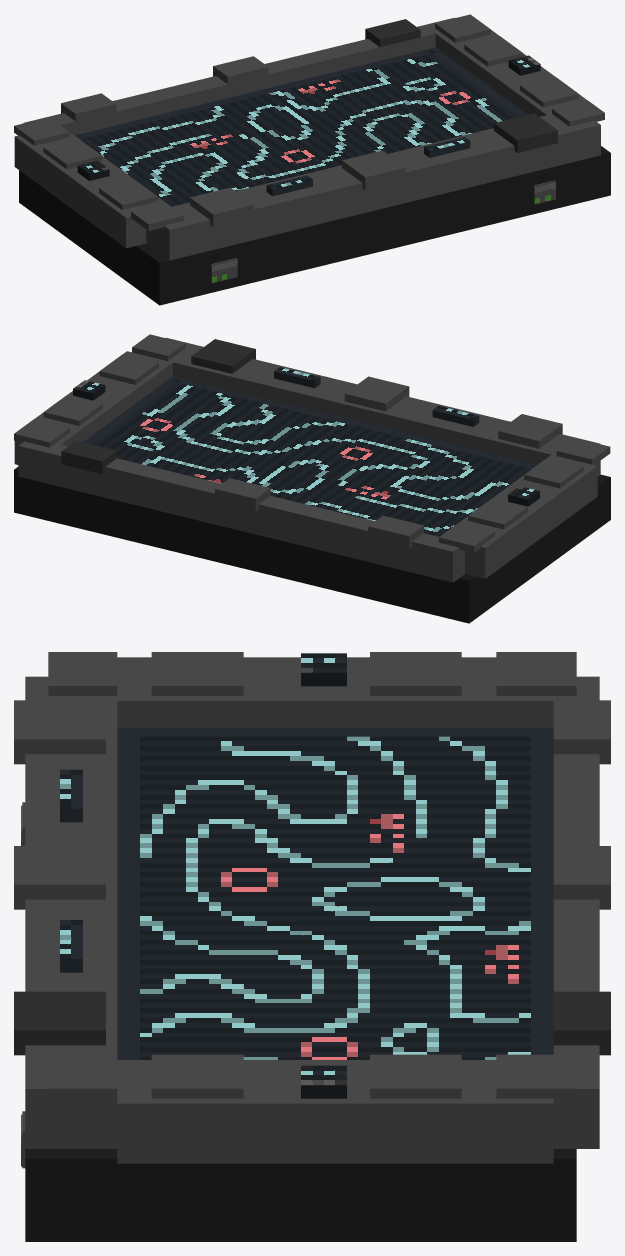
The model's file is CMU3DTacticalMapLargeGovforCloud.glb.
The picture shows the model from 3 angles, top to bottom: view 1: azimuth 30°, elevation 25°; view 2: azimuth 150°, elevation 25°; view 3: azimuth 270°, elevation 25°; orthographic projection. The views are drawn at different scales.
Visible parts, largest first — view 1: original fixed map schematic original detail, low continuous base, front main rim, rear main rim, left protective rim, right protective rim, front fixing strap 14, front fixing strap 44, front fixing strap 74, inset screen solid backing, raised rear fixing strap 44, left armored bezel block 2 (+10 smaller); view 2: original fixed map schematic original detail, low continuous base, rear main rim, front main rim, left protective rim, right protective rim, inset screen solid backing, front fixing strap 44, front fixing strap 74, front fixing strap 14, raised rear fixing strap 14, raised rear fixing strap 74 (+9 smaller); view 3: original fixed map schematic original detail, low continuous base, right protective rim, front main rim, left protective rim, rear main rim, inset screen solid backing, front fixing strap 14, front fixing strap 74, front fixing strap 44, right armored bezel block 2, right armored bezel block 1 (+13 smaller).
Boxes of the visible parts, bbox=[...] form: original fixed map schematic original detail: bbox=[77, 50, 522, 206]; low continuous base: bbox=[19, 146, 610, 305]; front main rim: bbox=[146, 114, 600, 260]; rear main rim: bbox=[23, 17, 454, 135]; left protective rim: bbox=[14, 132, 165, 248]; right protective rim: bbox=[435, 30, 586, 116]; front fixing strap 14: bbox=[190, 187, 253, 227]; front fixing strap 44: bbox=[342, 150, 405, 190]; front fixing strap 74: bbox=[494, 113, 557, 152]; inset screen solid backing: bbox=[74, 47, 527, 137]; raised rear fixing strap 44: bbox=[213, 56, 268, 89]; left armored bezel block 2: bbox=[99, 179, 157, 209]; original fixed map schematic original detail: bbox=[88, 379, 533, 536]; low continuous base: bbox=[14, 467, 610, 623]; rear main rim: bbox=[18, 441, 464, 582]; front main rim: bbox=[166, 337, 600, 476]; left protective rim: bbox=[460, 455, 597, 578]; right protective rim: bbox=[14, 351, 172, 464]; inset screen solid backing: bbox=[83, 376, 536, 466]; front fixing strap 44: bbox=[344, 376, 409, 411]; front fixing strap 74: bbox=[191, 339, 255, 373]; front fixing strap 14: bbox=[498, 414, 562, 448]; raised rear fixing strap 14: bbox=[368, 515, 423, 548]; raised rear fixing strap 74: bbox=[61, 440, 116, 473]; original fixed map schematic original detail: bbox=[128, 736, 541, 1059]; low continuous base: bbox=[25, 1149, 576, 1241]; right protective rim: bbox=[117, 1060, 553, 1163]; front main rim: bbox=[25, 676, 117, 1148]; left protective rim: bbox=[117, 657, 553, 727]; rear main rim: bbox=[553, 676, 599, 1148]; inset screen solid backing: bbox=[117, 727, 553, 1059]; front fixing strap 14: bbox=[14, 700, 105, 764]; front fixing strap 74: bbox=[14, 991, 105, 1055]; front fixing strap 44: bbox=[14, 846, 105, 909]; right armored bezel block 2: bbox=[151, 1054, 243, 1098]; right armored bezel block 1: bbox=[370, 1054, 461, 1098].
Size of the model in its own units: 2.88 by 0.475 by 1.62.
13 materials, 7 textured.
